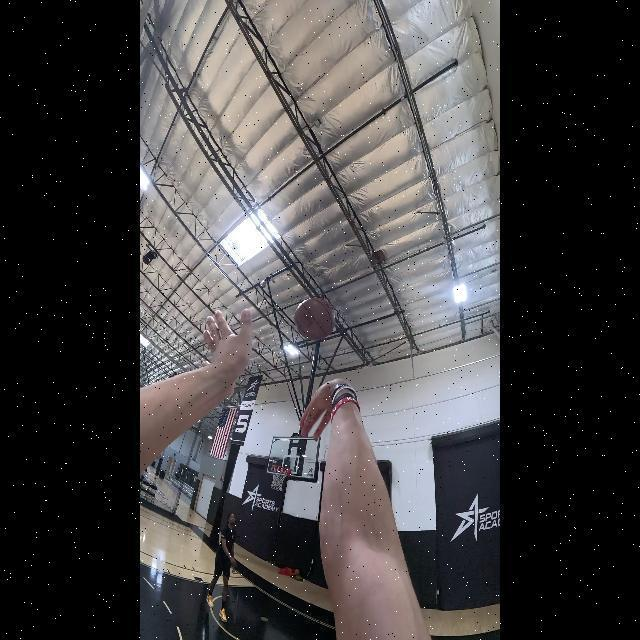ball: (293, 296, 333, 341)
